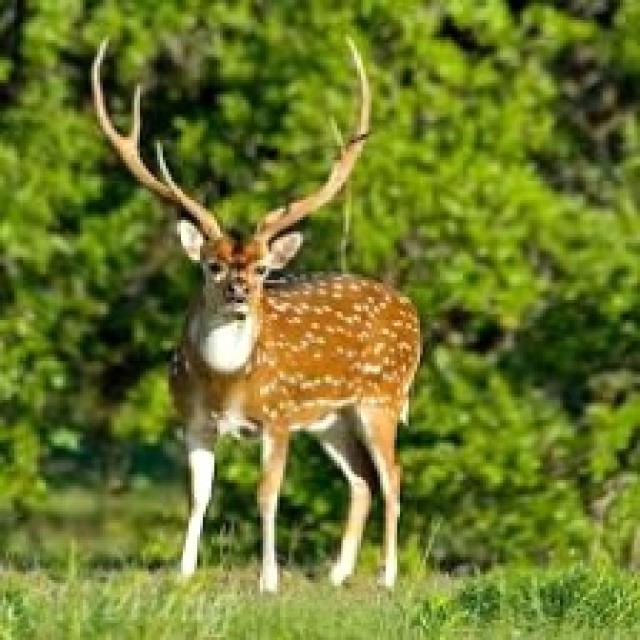bear: (60, 23, 571, 640)
